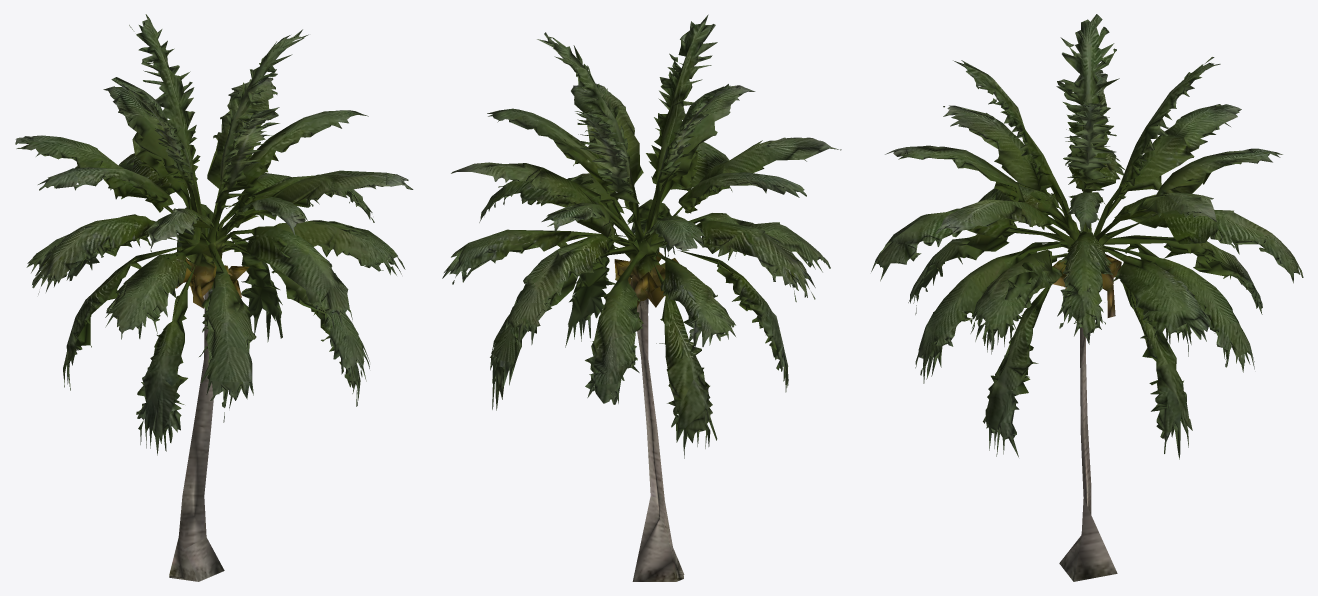
Rendered from tree_royal_palm.glb.
The picture shows the model from 3 angles, left to right: view 1: azimuth 30°, elevation 25°; view 2: azimuth 150°, elevation 25°; view 3: azimuth 270°, elevation 25°; orthographic projection.
Parts seen in each view (by area): view 1: tripo_node_18ae2c43-f96c-409f-b9b7-b3026bcb2bd7; view 2: tripo_node_18ae2c43-f96c-409f-b9b7-b3026bcb2bd7; view 3: tripo_node_18ae2c43-f96c-409f-b9b7-b3026bcb2bd7.
Part boxes in pixels (bbox=[...]): tripo_node_18ae2c43-f96c-409f-b9b7-b3026bcb2bd7: bbox=[15, 14, 413, 581]; tripo_node_18ae2c43-f96c-409f-b9b7-b3026bcb2bd7: bbox=[442, 14, 841, 581]; tripo_node_18ae2c43-f96c-409f-b9b7-b3026bcb2bd7: bbox=[871, 14, 1303, 581].
Bounding box in the file's own units: 0.6802 × 0.9948 × 0.7488.
1 material, 1 textured.
